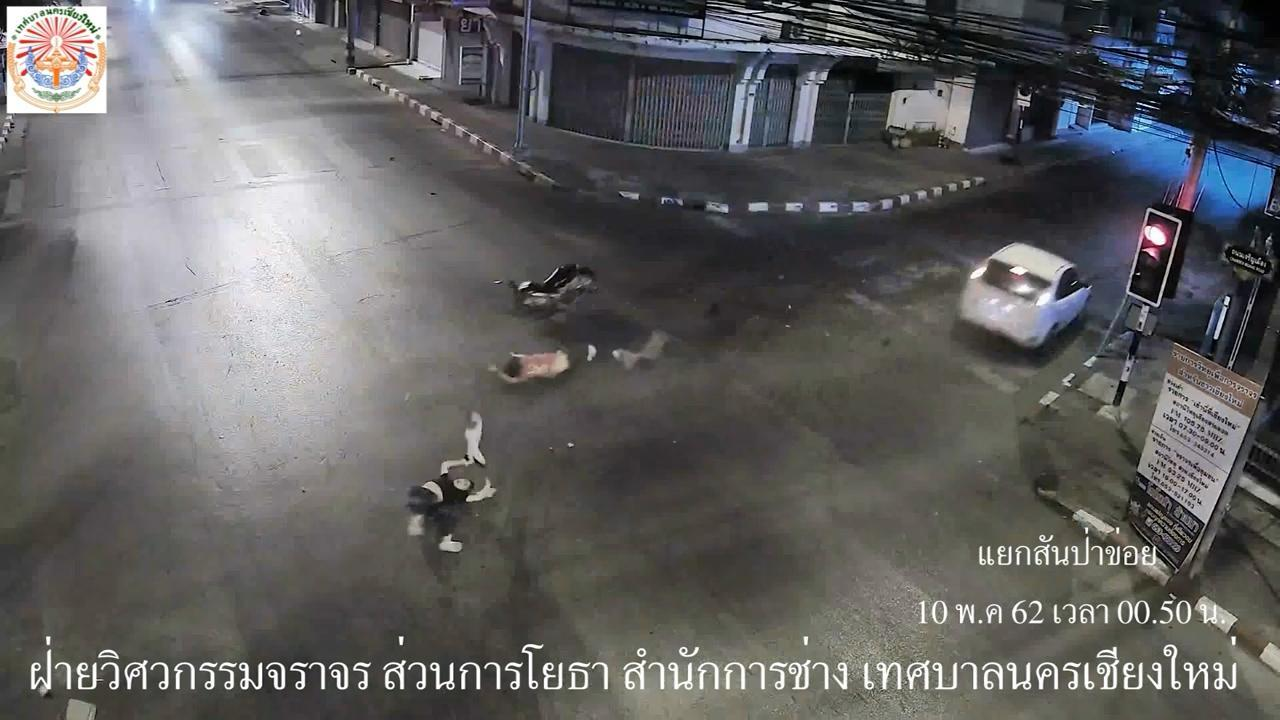accident: (400, 442, 493, 556), (485, 342, 612, 380)
